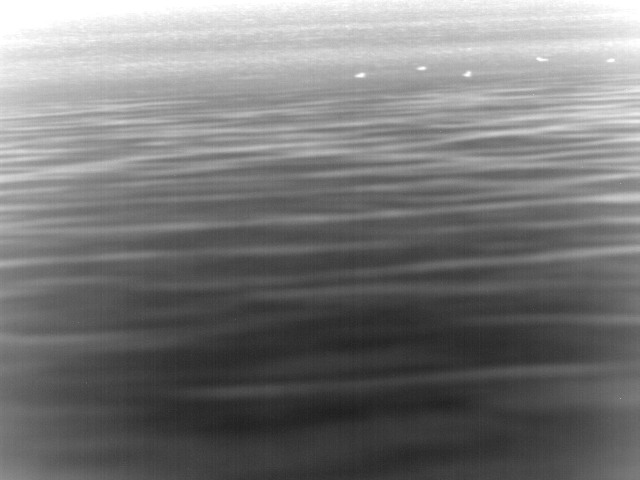dim target: (535, 55, 550, 63), (461, 69, 472, 78), (354, 71, 365, 79), (415, 65, 426, 72), (605, 57, 616, 63)
